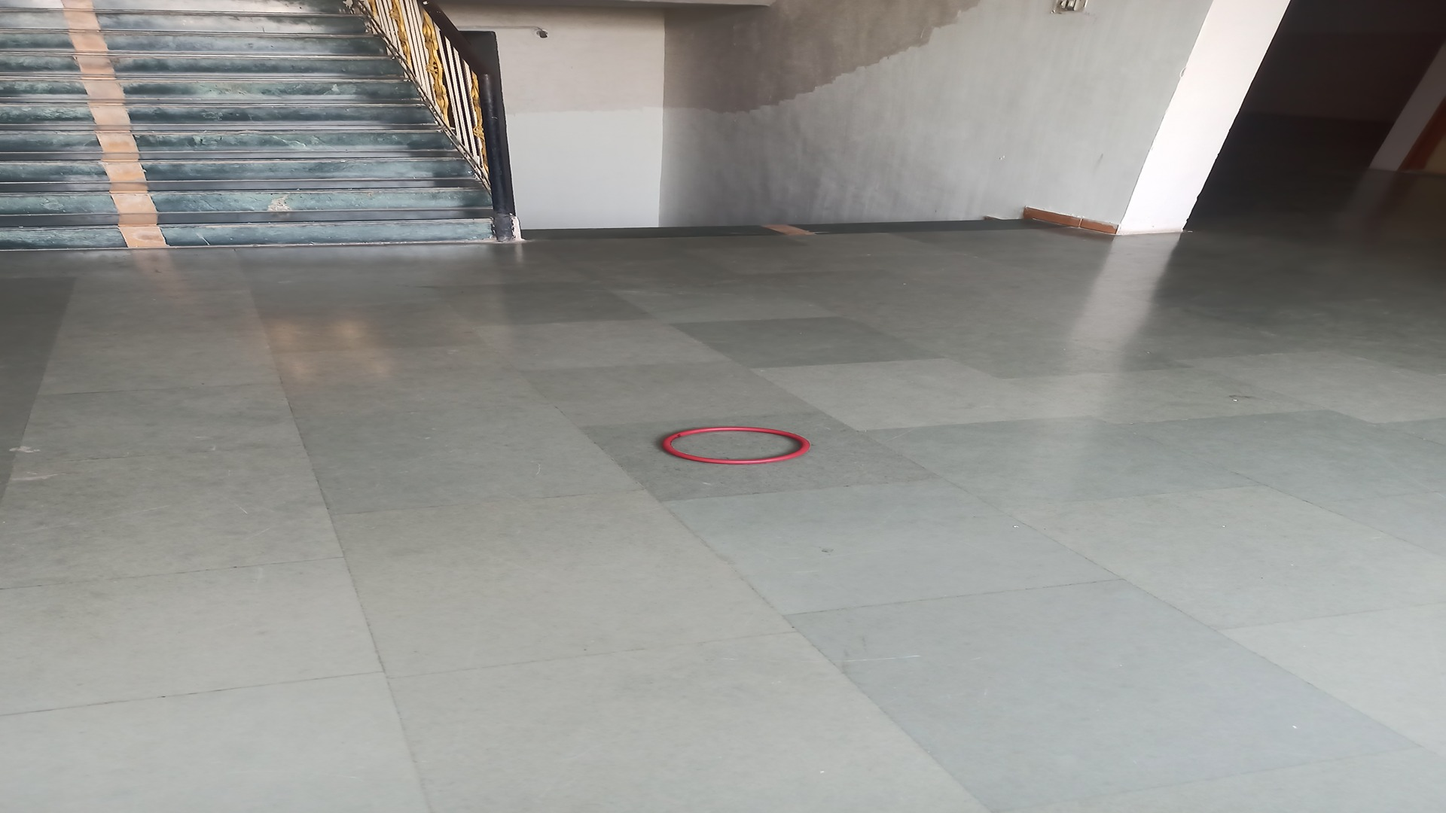Red ring: (661, 427, 810, 463)
